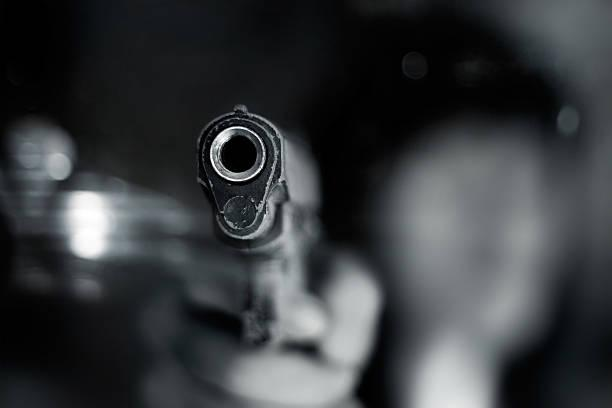weapon: (178, 97, 338, 345)
